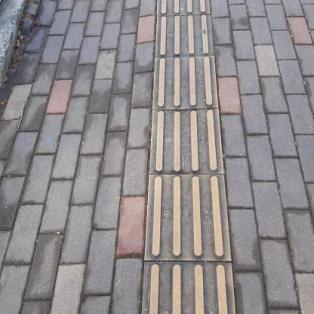Podoctatil: (131, 0, 244, 313)
